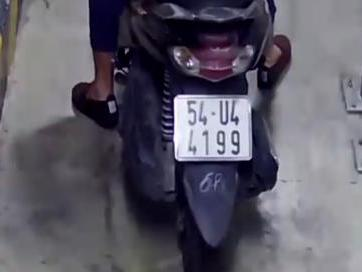num_plate: (172, 93, 254, 161)
